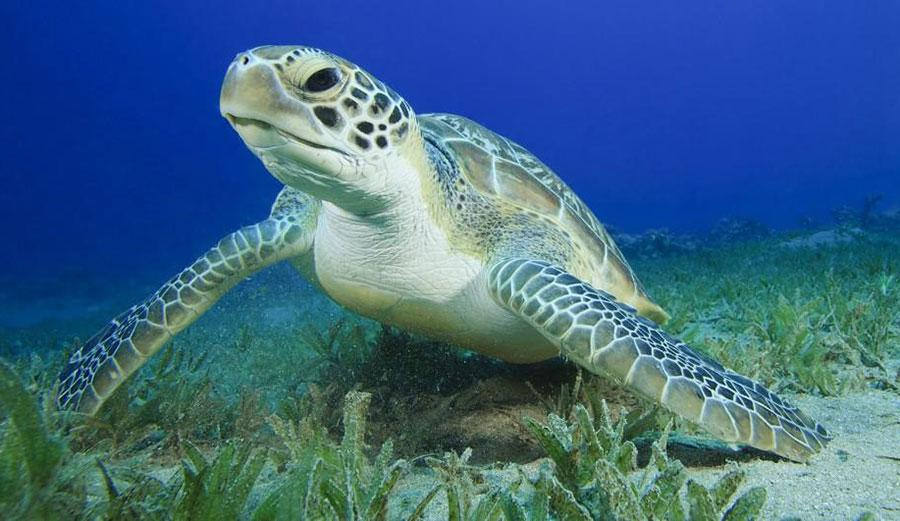turtle: (211, 29, 422, 222)
